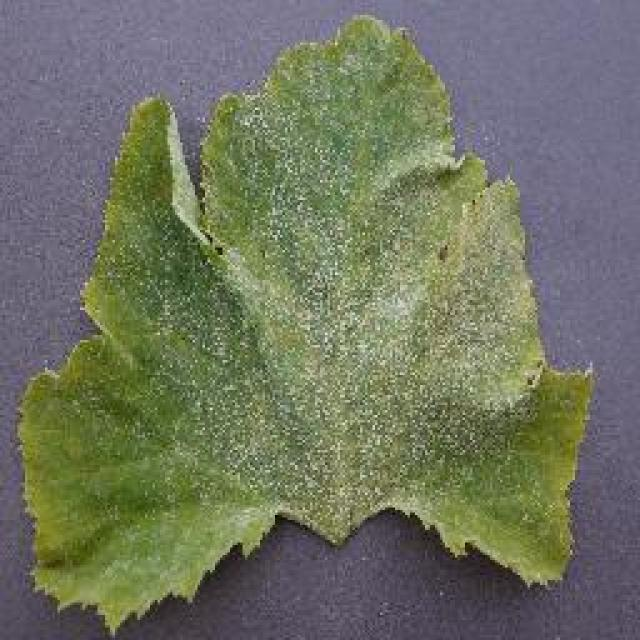Squ_Powdery_mildew: (125, 137, 499, 491)
